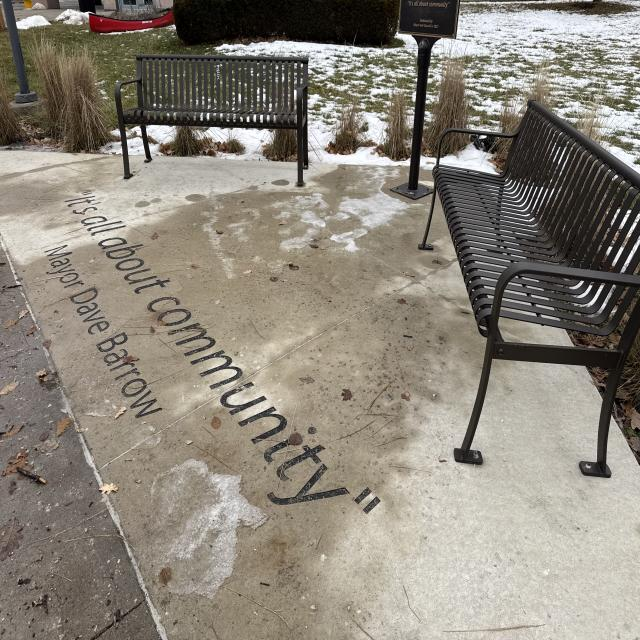Bench: (427, 88, 630, 479), (116, 37, 315, 185)
